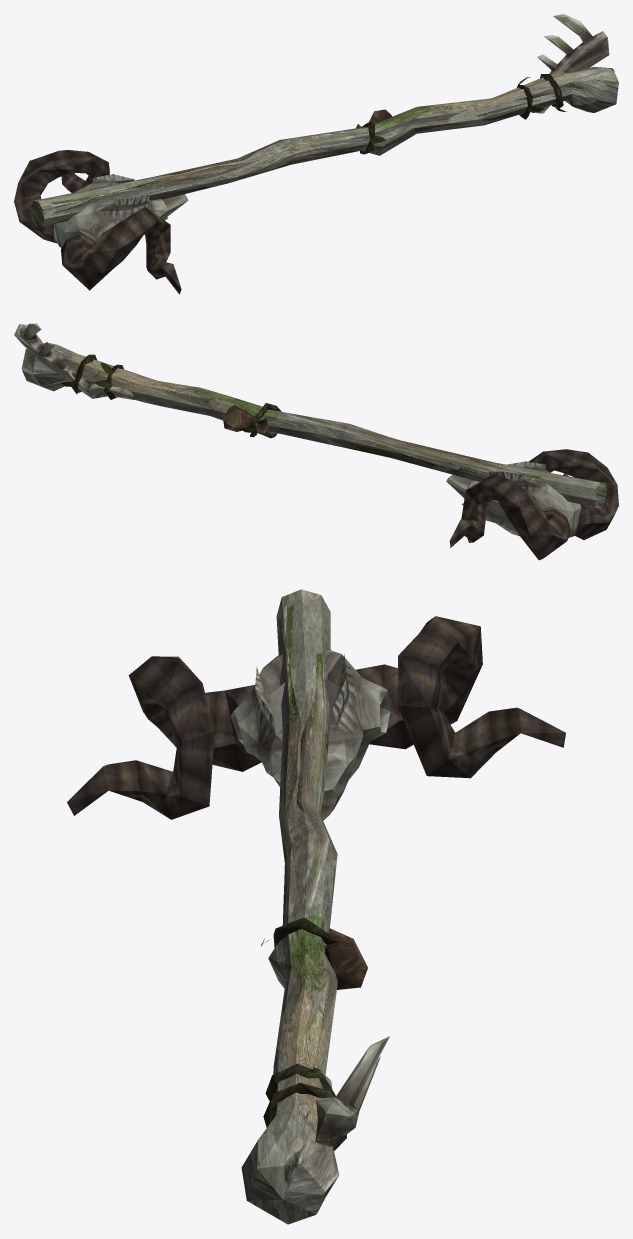
File: IT_WPN_STAFF_DRUID.glb
The picture shows the model from 3 angles, top to bottom: view 1: azimuth 30°, elevation 25°; view 2: azimuth 150°, elevation 25°; view 3: azimuth 270°, elevation 25°; orthographic projection. The views are drawn at different scales.
Visible parts, largest first — view 1: IT_WPN_STAFF_DRUID; view 2: IT_WPN_STAFF_DRUID; view 3: IT_WPN_STAFF_DRUID.
Part boxes in pixels (x1=…): IT_WPN_STAFF_DRUID: x1=14, y1=14, x2=618, y2=294; IT_WPN_STAFF_DRUID: x1=14, y1=323, x2=618, y2=560; IT_WPN_STAFF_DRUID: x1=67, y1=589, x2=565, y2=1224.
Size of the model in its own units: 1.76 by 0.3372 by 0.6603.
Materials: 2 (2 with a texture image).
